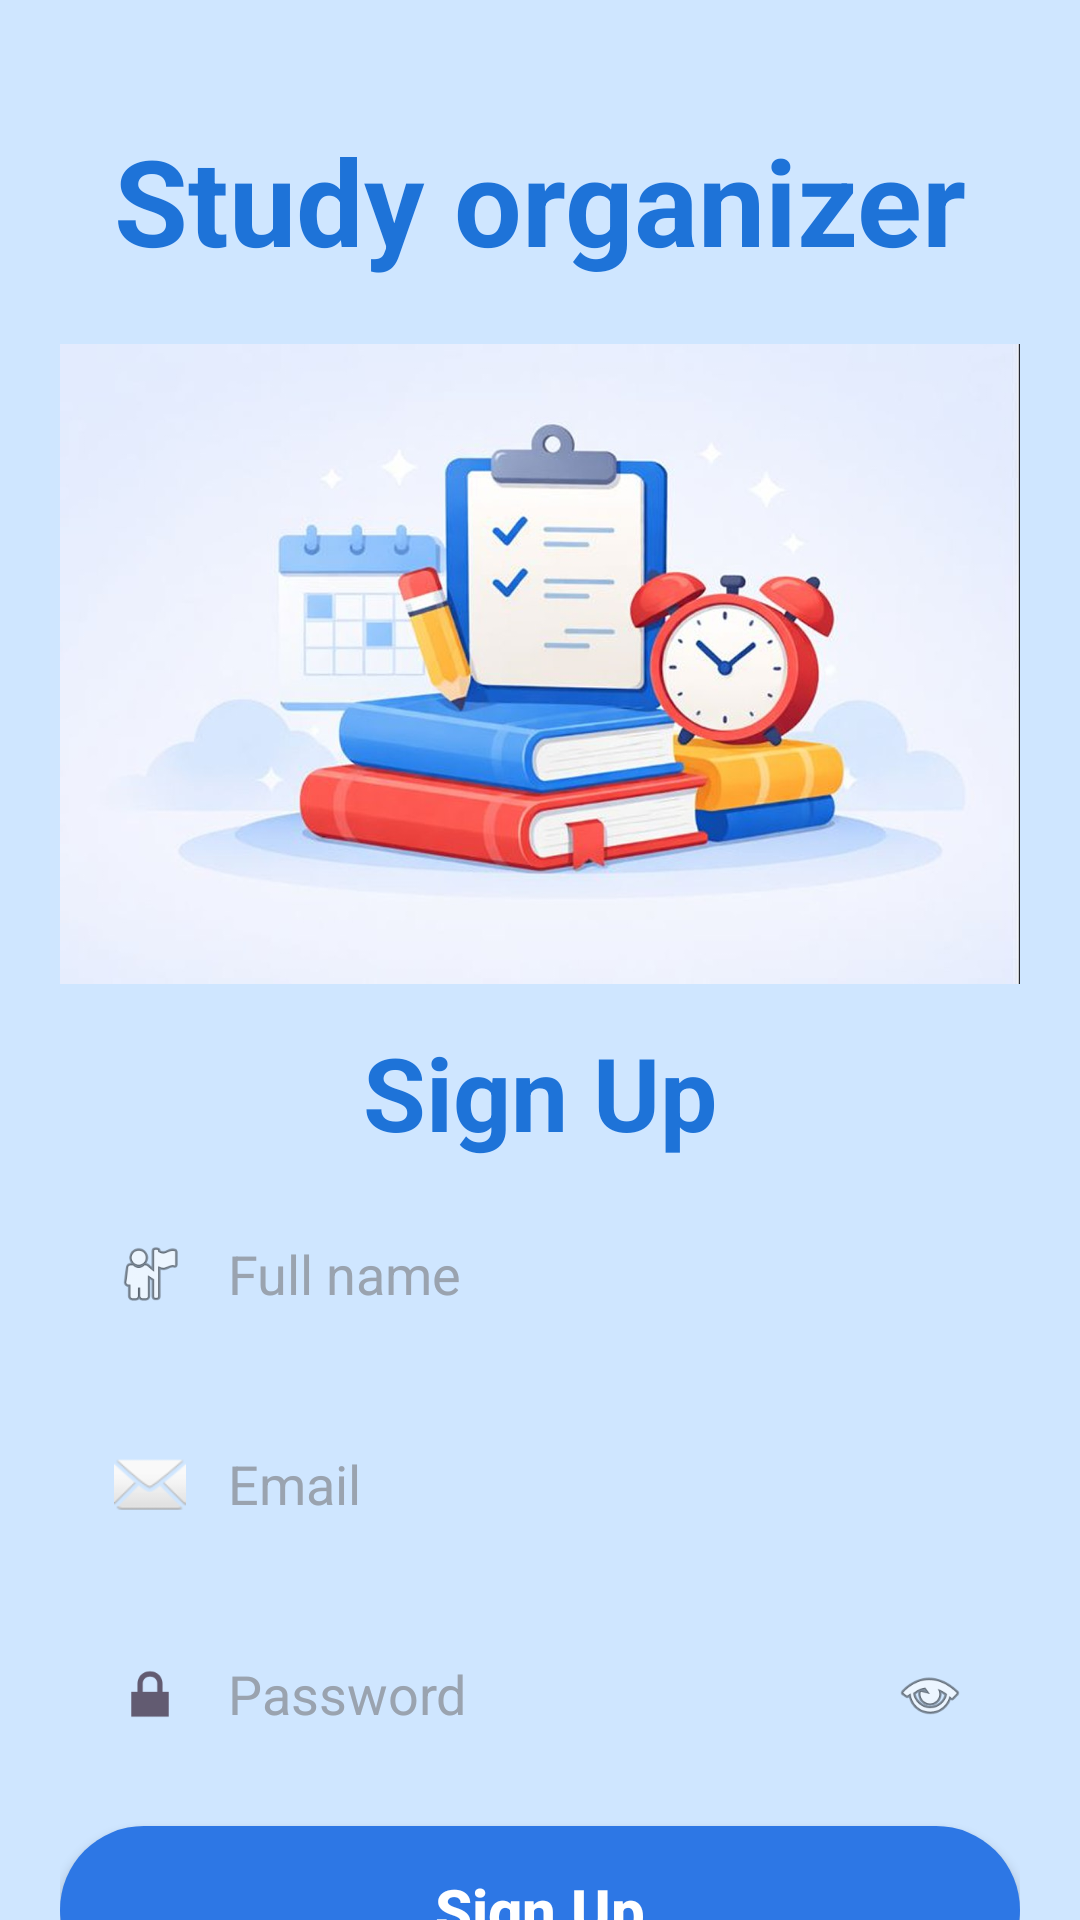

Where icons sit on this 1080 x 1920 app screen, as (x1, y1, x2, y2):
lock: (131, 1671, 169, 1717)
myplaces: (124, 1247, 178, 1301)
view: (901, 1677, 959, 1714)
